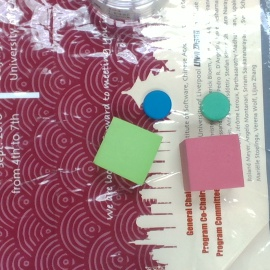blue: (142, 90, 172, 118)
green: (199, 91, 230, 121)
